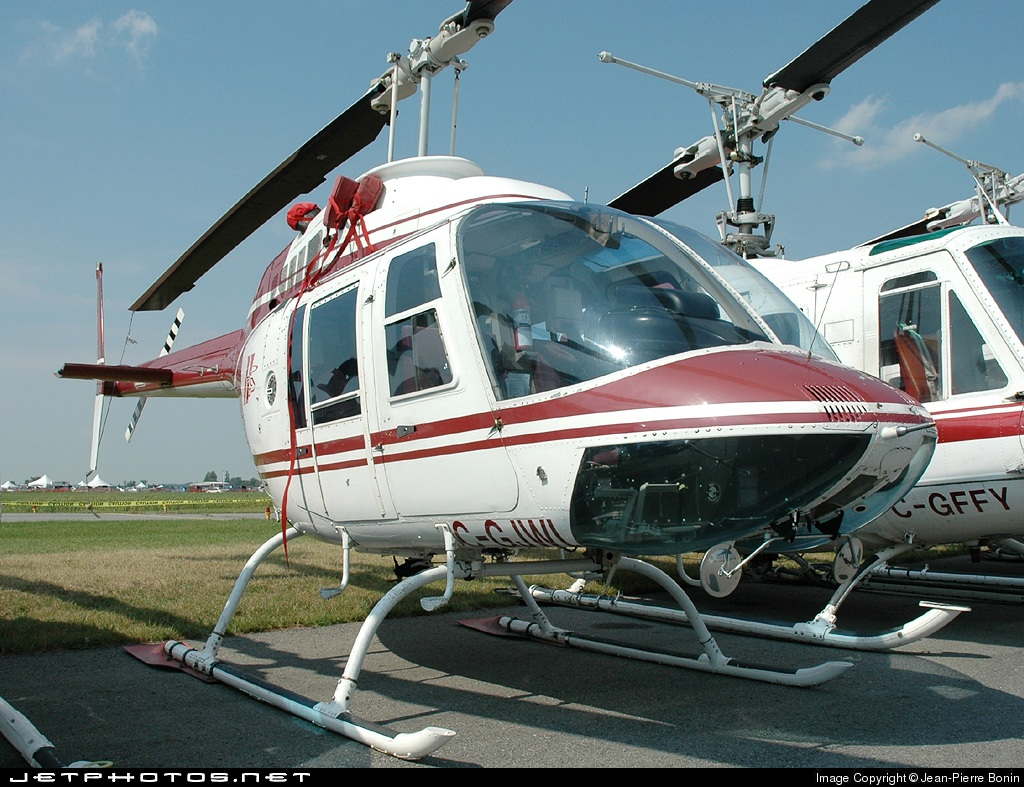number: (886, 479, 1018, 533), (452, 508, 565, 555)
